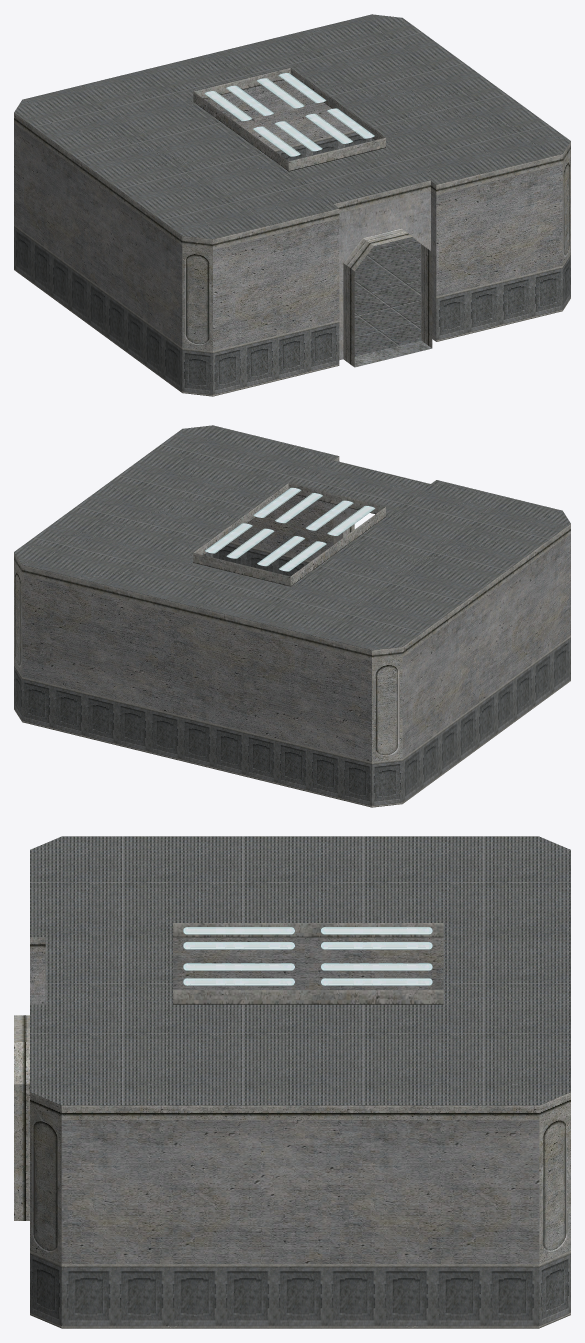
File: mun_tato_guild_combat_s01_r7_meetingc_mesh_meetingc.fbx
3 renders of one model, top to bottom at view 1: azimuth 30°, elevation 25°; view 2: azimuth 150°, elevation 25°; view 3: azimuth 270°, elevation 25°, orthographic. The views are drawn at different scales.
Visible parts, largest first — view 1: mesh_node; view 2: mesh_node; view 3: mesh_node.
Part boxes in pixels (<box>): mesh_node: <box>14,14,570,396</box>; mesh_node: <box>14,425,570,807</box>; mesh_node: <box>14,836,570,1328</box>.
Size of the model in its own units: 10 by 4.12 by 8.75.
